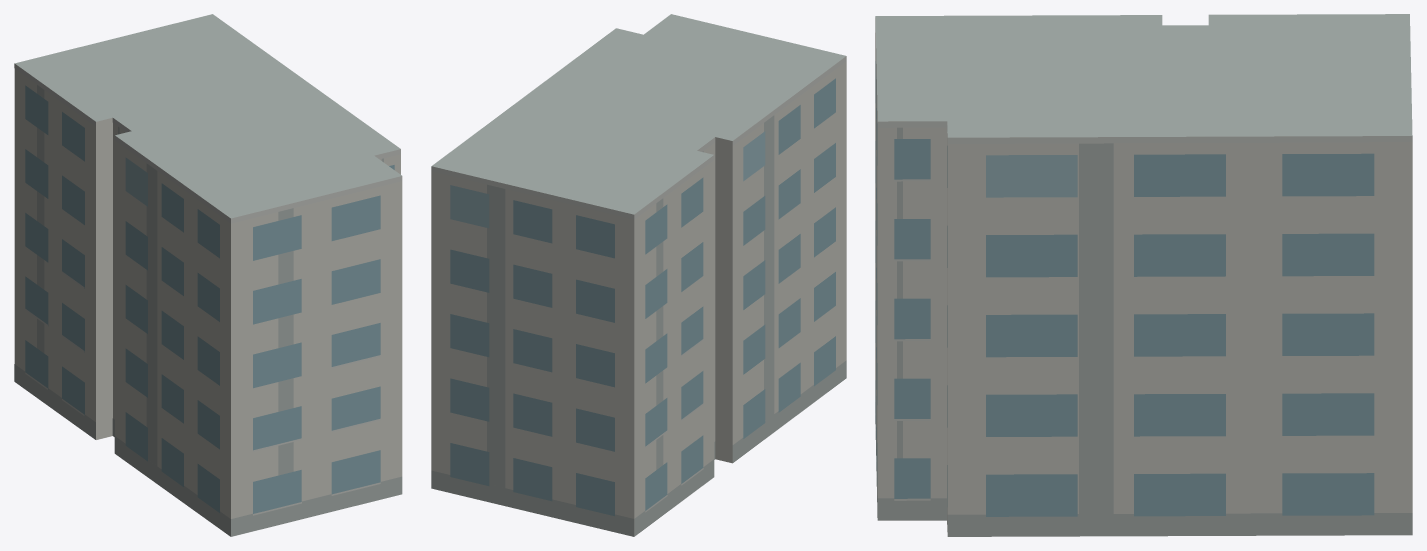
File: survey-upis-32610853.glb
3 views of the same model, side by side, from view 1: azimuth 30°, elevation 25°; view 2: azimuth 150°, elevation 25°; view 3: azimuth 270°, elevation 25° (orthographic). The views are drawn at different scales.
Visible parts, largest first — view 1: survey-upis-32610853.tmp; view 2: survey-upis-32610853.tmp; view 3: survey-upis-32610853.tmp.
Boxes of the visible parts, box(x1,y1,x2,y2) form: survey-upis-32610853.tmp: box(14, 14, 402, 536); survey-upis-32610853.tmp: box(431, 14, 846, 536); survey-upis-32610853.tmp: box(875, 14, 1412, 536).
Size of the model in its own units: 10.14 by 15.25 by 18.61.
